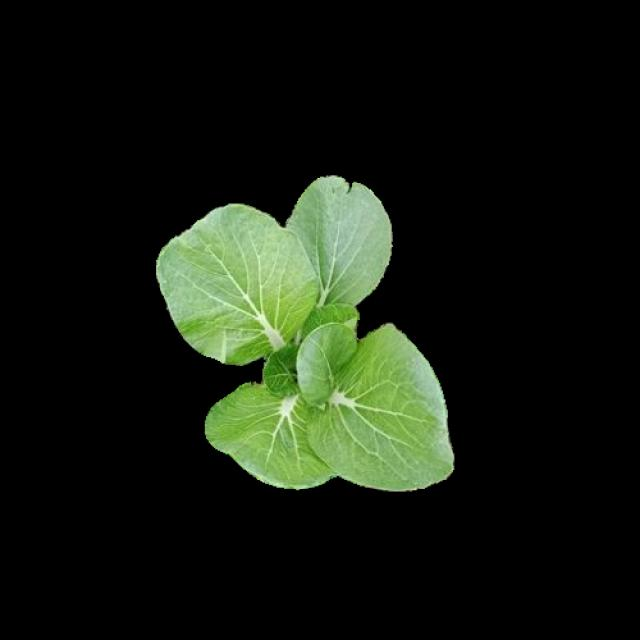healthy: (152, 173, 450, 485)
not-mature: (155, 175, 453, 488)
